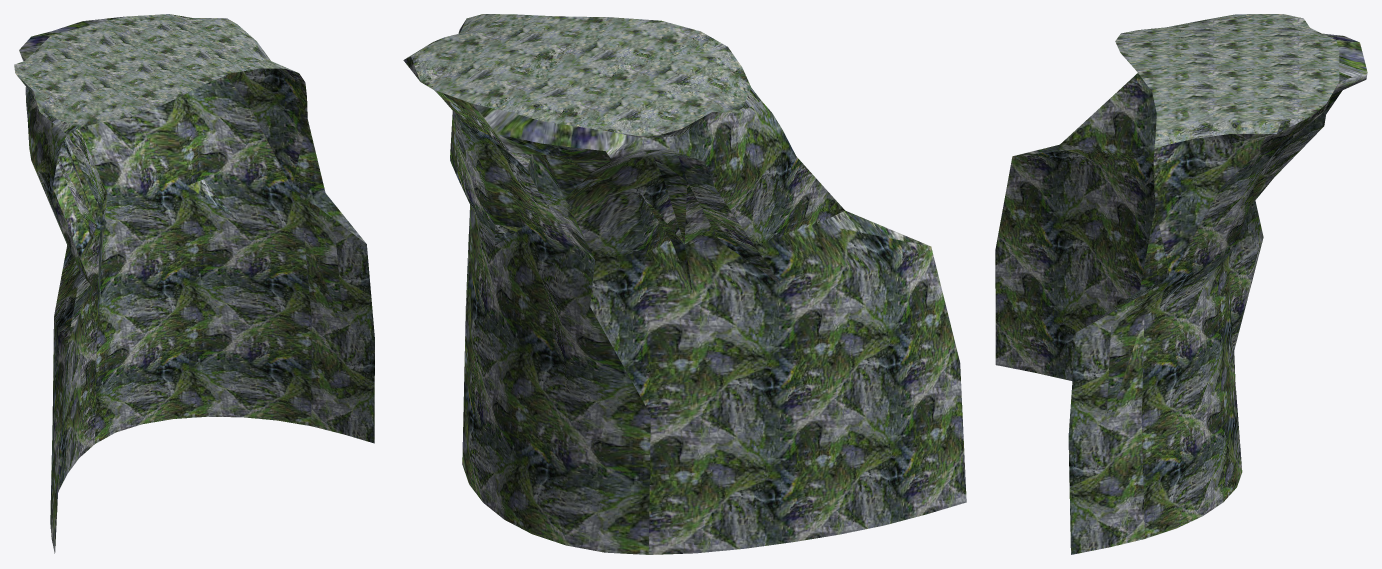
3 views of the same model, side by side, from view 1: azimuth 30°, elevation 25°; view 2: azimuth 150°, elevation 25°; view 3: azimuth 270°, elevation 25° (orthographic). The views are drawn at different scales.
Visible parts, largest first — view 1: Object54; view 2: Object54; view 3: Object54.
Boxes of the visible parts, x1,y1,x2,y2 form: Object54: [14, 14, 374, 553]; Object54: [403, 14, 966, 554]; Object54: [995, 14, 1367, 554].
Bounding box in the file's own units: 856 × 861 × 709.
